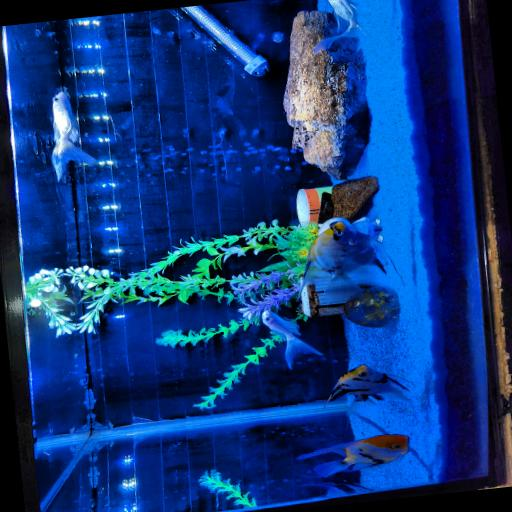Fish: (298, 220, 395, 303), (298, 434, 409, 476), (326, 364, 410, 415), (52, 91, 97, 180), (262, 310, 322, 367), (315, 0, 369, 52), (321, 481, 372, 497)
